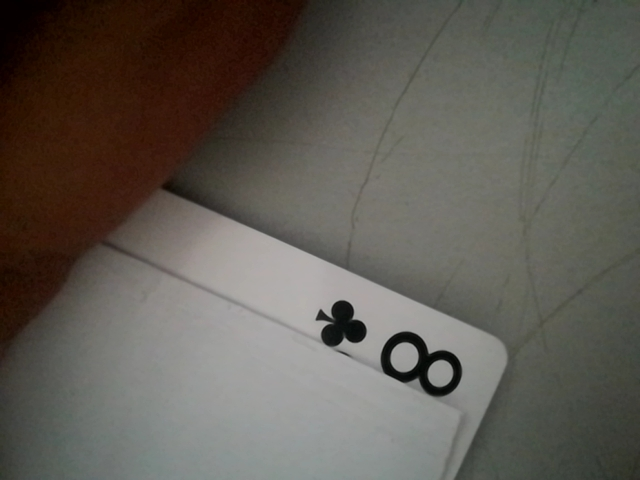mh 8: (303, 293, 486, 409)
